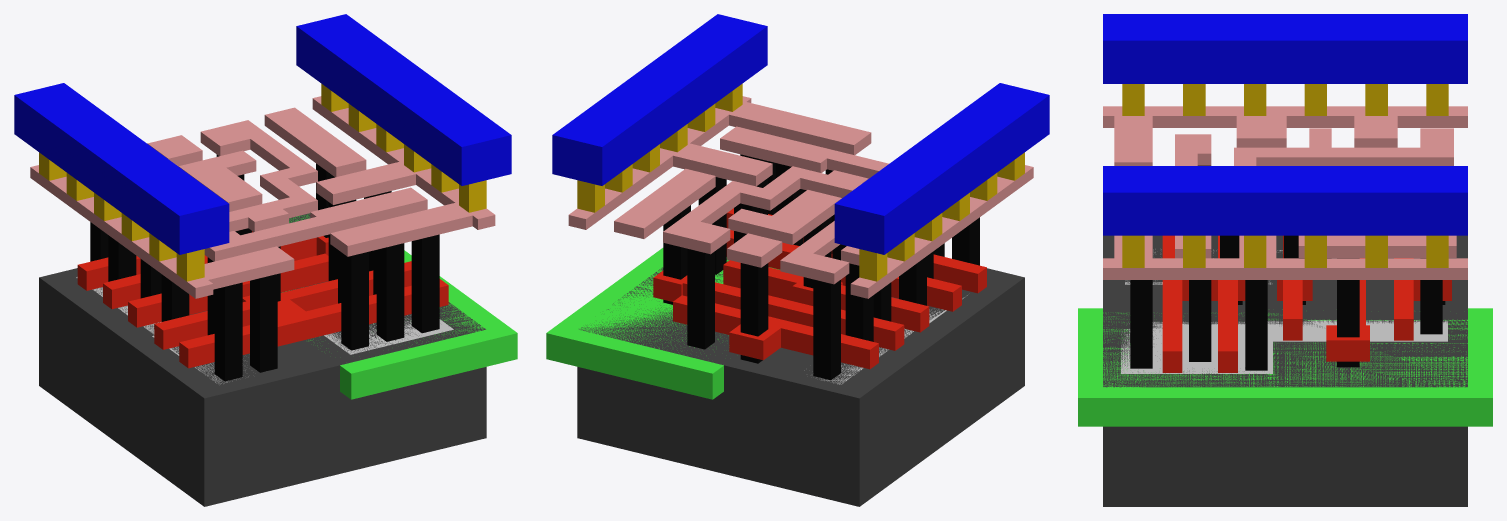
Rendered from sky130_fd_sc_hd__or3_2.obj.
3 renders of one model, left to right at view 1: azimuth 30°, elevation 25°; view 2: azimuth 150°, elevation 25°; view 3: azimuth 270°, elevation 25°, orthographic. The views are drawn at different scales.
Visible parts, largest first — view 1: subs, metal1, li, licon, poly, nwell, mcon, tap; view 2: subs, metal1, li, licon, poly, nwell, mcon; view 3: metal1, subs, nwell, li, licon, poly, mcon, tap.
Boxes of the visible parts, x1,y1,x2,y2 form: subs: [39, 213, 486, 506]; metal1: [14, 14, 511, 254]; li: [30, 96, 495, 298]; licon: [90, 154, 439, 381]; poly: [77, 231, 448, 368]; nwell: [282, 214, 517, 399]; mcon: [39, 83, 486, 281]; tap: [324, 315, 453, 354]; subs: [577, 259, 1024, 506]; metal1: [552, 14, 1049, 254]; li: [568, 96, 1033, 298]; licon: [663, 154, 979, 380]; poly: [653, 208, 986, 369]; nwell: [546, 248, 779, 399]; mcon: [577, 83, 1024, 281]; metal1: [1103, 14, 1467, 235]; subs: [1103, 235, 1467, 506]; nwell: [1078, 308, 1492, 426]; li: [1103, 106, 1467, 279]; licon: [1130, 165, 1445, 370]; poly: [1162, 235, 1451, 372]; mcon: [1122, 84, 1448, 267]; tap: [1121, 320, 1447, 373].
Bounding box in the file's own units: 3.2 × 2.74 × 3.14.
